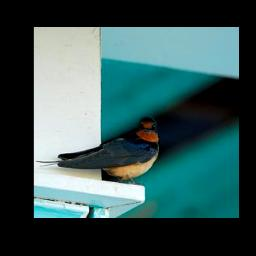Swallow: (36, 112, 163, 184)
